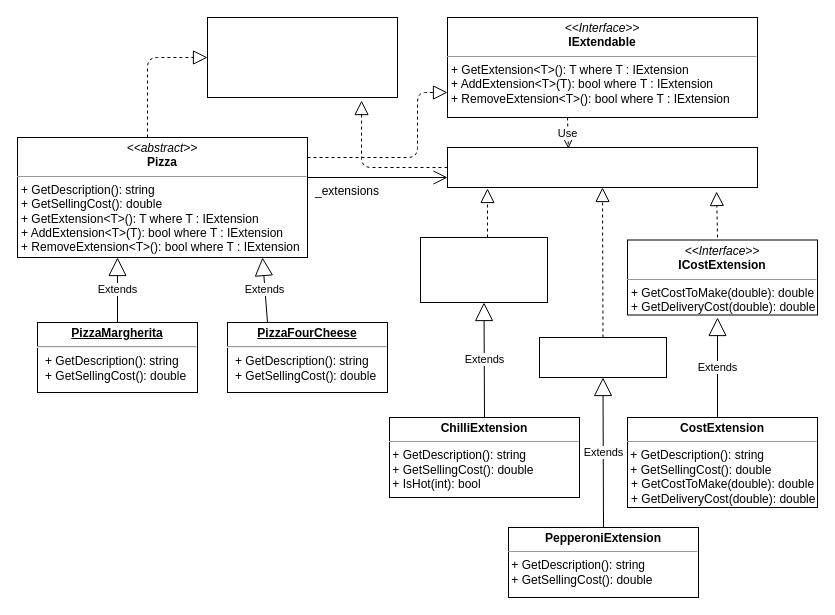
Some shapes in this 835 by 615 pixel diagram are drawn without their labels. Here are the shapes that lost their labels. From the top down, the centre of each, then its label:
At (x=302, y=57): "<<Interface>> IPizza + GetDescription(): string + GetSellingCost(): double".
At (x=602, y=167): "<<Interface>> IExtension".
At (x=484, y=269): "<<Interface>> IChilliExtension + IsHot(int): bool".
At (x=602, y=357): "<<Interface>> IPepperoniExtension".
